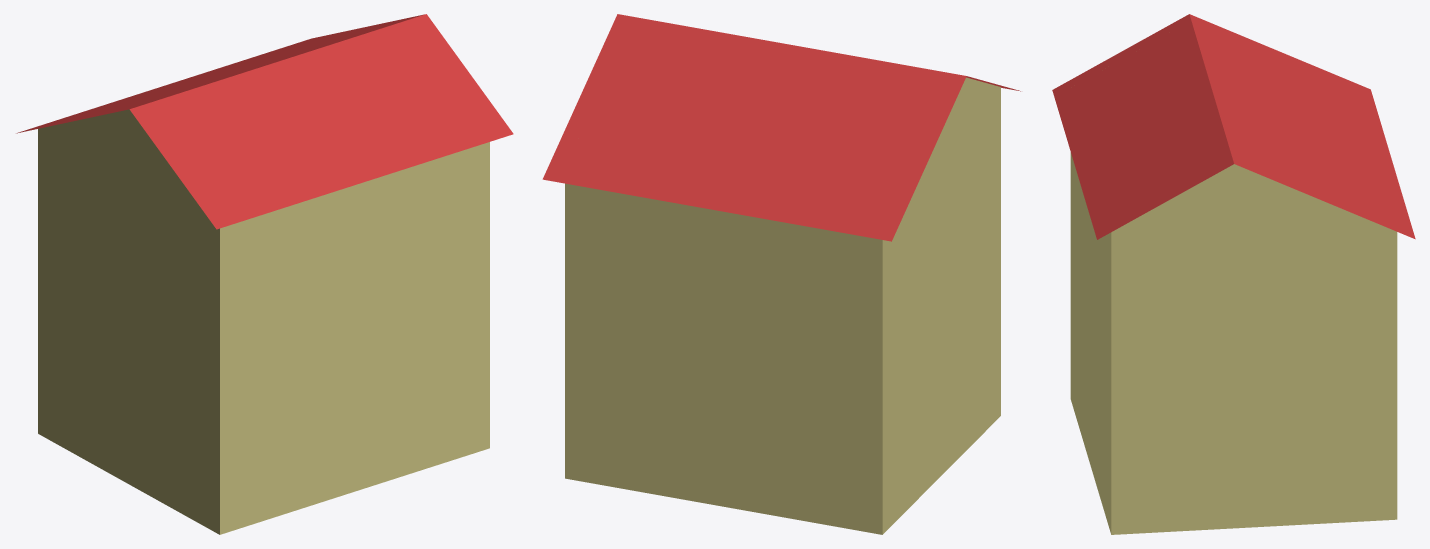
3 views of the same model, side by side, from view 1: azimuth 30°, elevation 25°; view 2: azimuth 150°, elevation 25°; view 3: azimuth 270°, elevation 25° (orthographic). The views are drawn at different scales.
Bounding box in the file's own units: 12.1 × 11.13 × 12.54.
